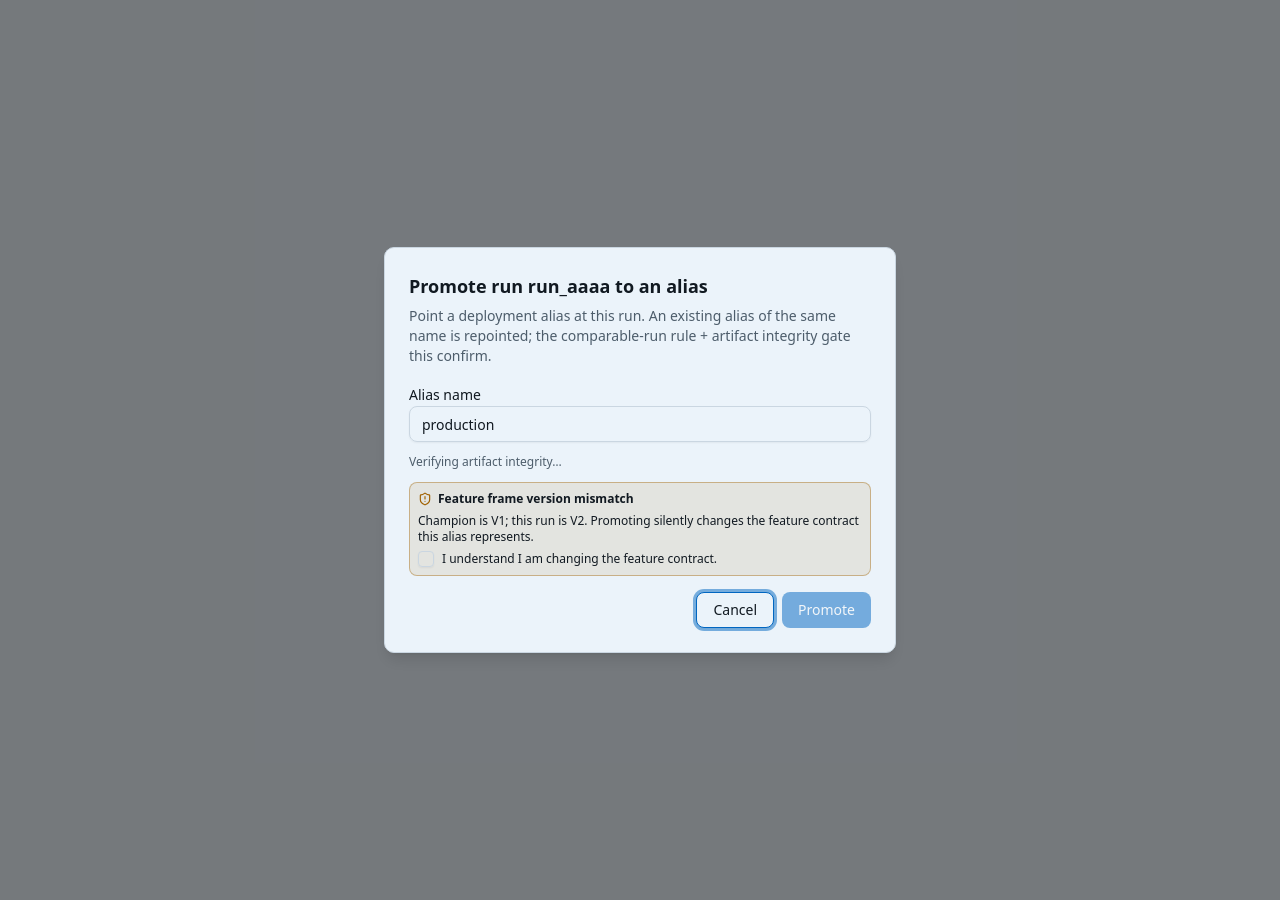
Test: PromoteConfirmationDialog › requires the V-mismatch checkbox when champion V differs from run V
expect the element with test id "promote-confirmation-version-mismatch" is shown: met, box [409,482,871,576]
expect the button with test id "promote-confirmation-action" is disabled: met, box [782,592,871,628]
Click the checkbox with test id "promote-confirmation-version-ack". click: (426, 559)
box: [418,551,434,567]
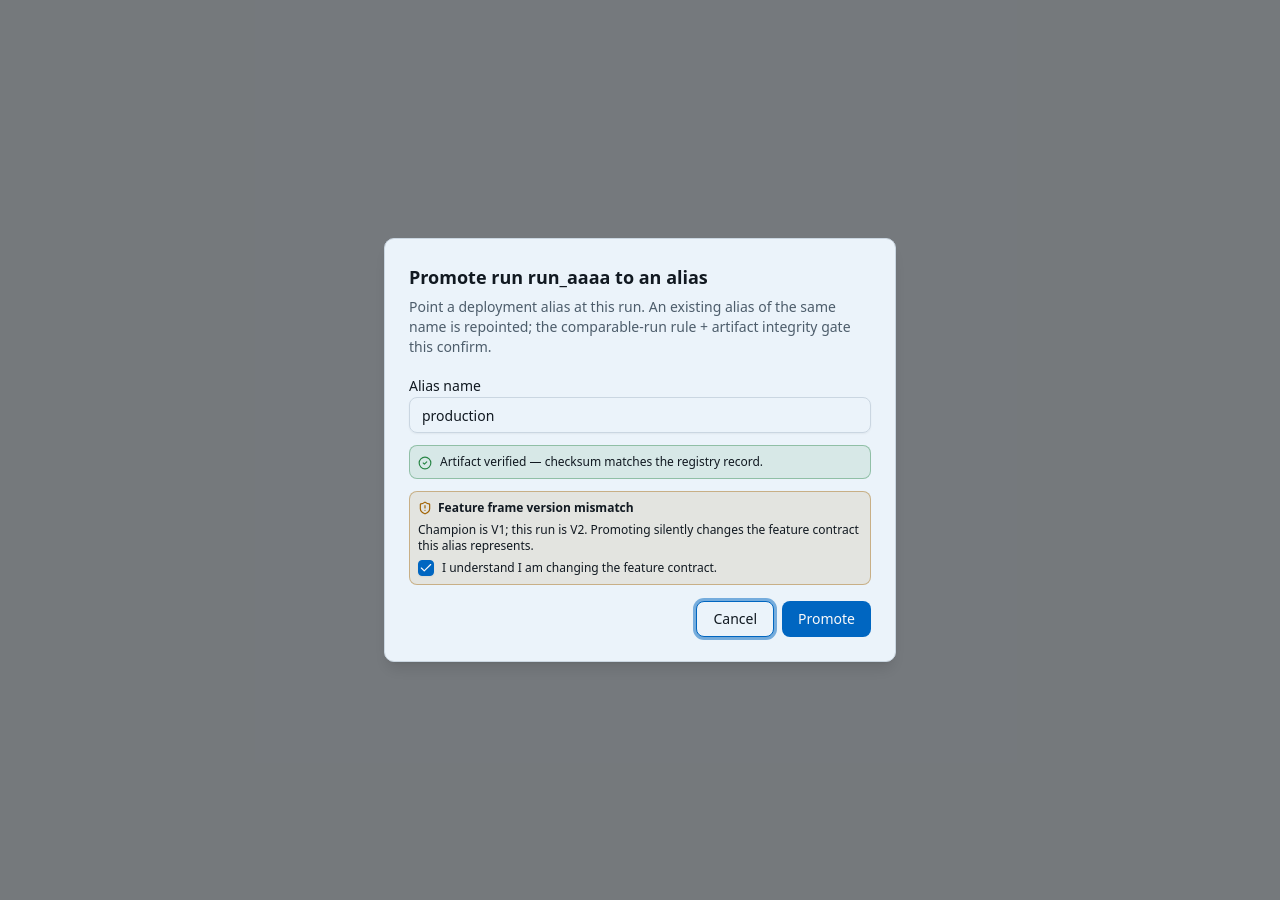
expect the button with test id "promote-confirmation-action" is enabled: met, box [782,601,871,637]
